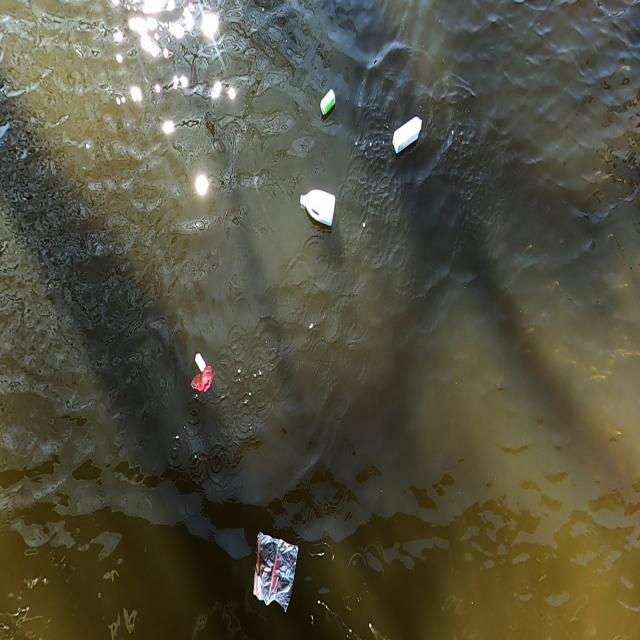Autre plastique: (295, 186, 336, 230), (384, 115, 425, 158)
Non plastique: (317, 88, 339, 119)
